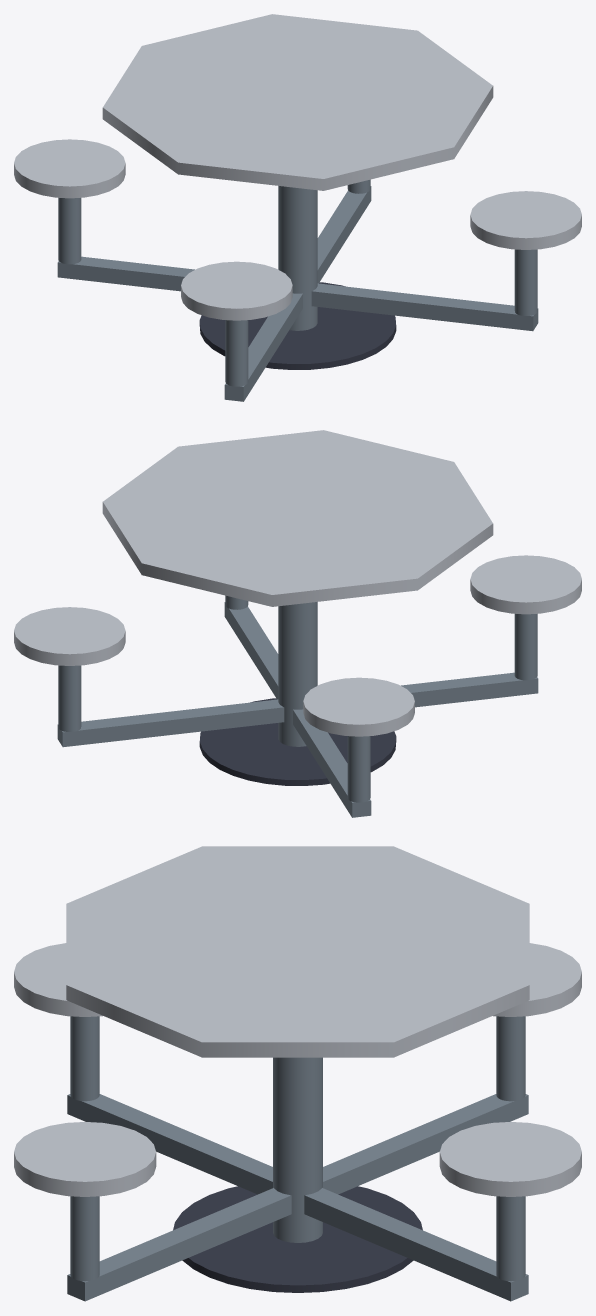
Rendered from prs-005.glb.
3 views of the same model, one above another, from view 1: azimuth 30°, elevation 25°; view 2: azimuth 150°, elevation 25°; view 3: azimuth 270°, elevation 25° (orthographic). The views are drawn at different scales.
Visible parts, largest first — view 1: stainless, prison_steel, dark_steel; view 2: stainless, prison_steel, dark_steel; view 3: stainless, prison_steel, dark_steel.
Boxes of the visible parts, x1,y1,x2,y2 form: stainless: (14,14,581,320); prison_steel: (57,179,538,401); dark_steel: (199,282,396,369); stainless: (14,430,581,736); prison_steel: (57,595,538,817); dark_steel: (199,698,396,785); stainless: (14,846,581,1196); prison_steel: (67,1016,528,1301); dark_steel: (173,1186,422,1292).
Bounding box in the file's own units: 1.36 × 0.78 × 1.36.
